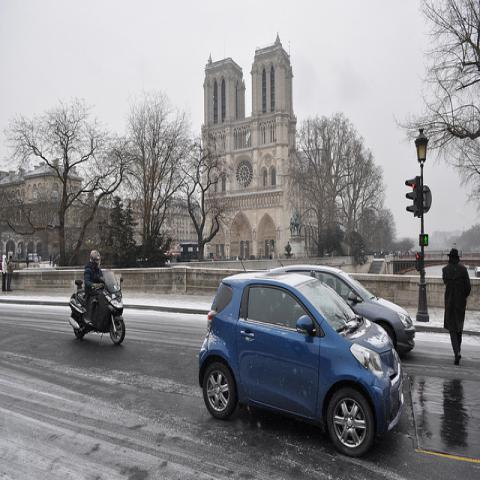car: (197, 273, 410, 458), (267, 263, 421, 354)
motorcycle: (69, 272, 126, 344)
